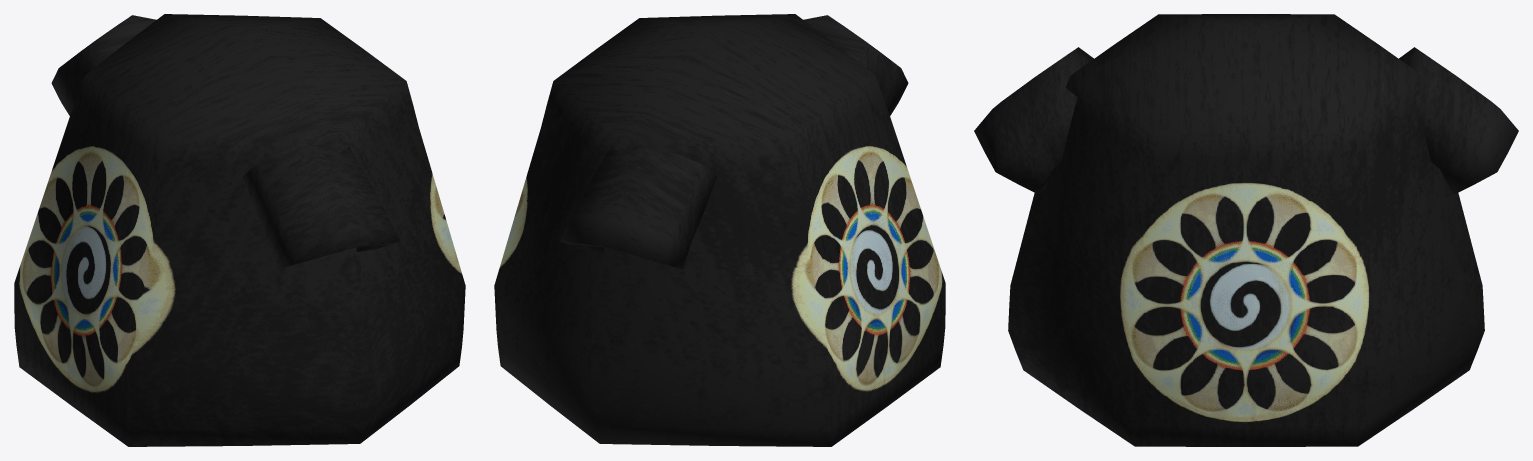
File: Egg.glb
3 views of the same model, side by side, from view 1: azimuth 30°, elevation 25°; view 2: azimuth 150°, elevation 25°; view 3: azimuth 270°, elevation 25° (orthographic). The views are drawn at different scales.
Parts seen in each view (by area): view 1: Egg'; view 2: Egg'; view 3: Egg'.
Boxes of the visible parts, bbox=[...] form: Egg': bbox=[14, 14, 465, 446]; Egg': bbox=[494, 14, 945, 446]; Egg': bbox=[974, 14, 1518, 446].
Size of the model in its own units: 1.48 by 1.5 by 2.03.
1 material, 1 textured.
